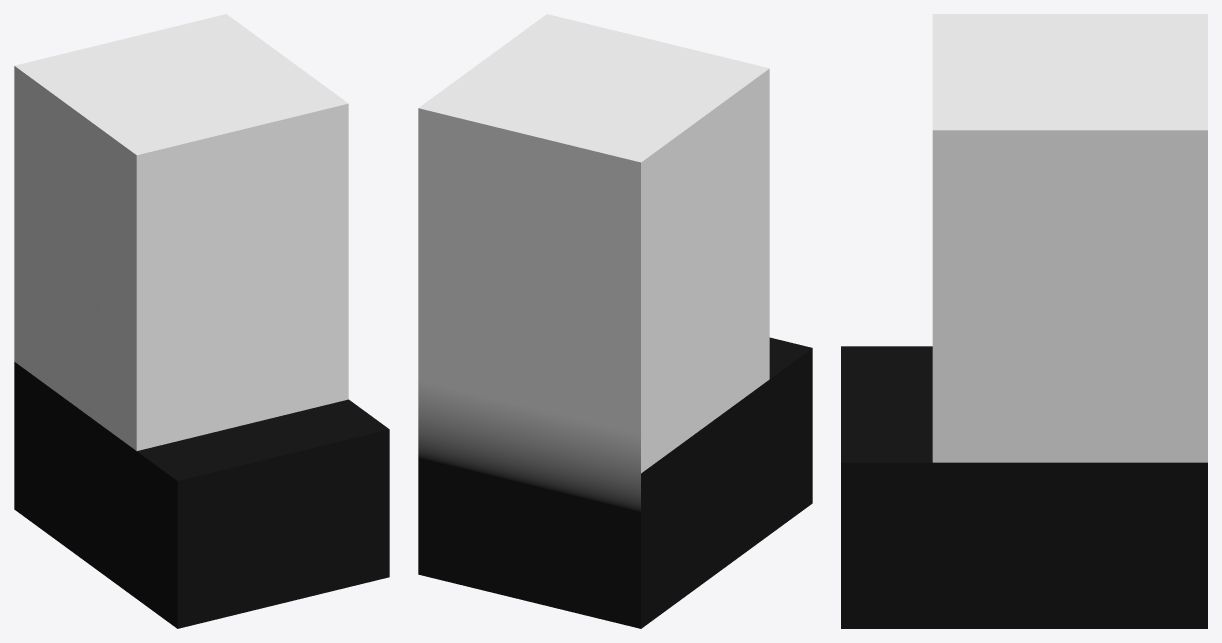
Rendered from base_legL.fbx.
3 renders of one model, left to right at view 1: azimuth 30°, elevation 25°; view 2: azimuth 150°, elevation 25°; view 3: azimuth 270°, elevation 25°, orthographic. The views are drawn at different scales.
Visible parts, largest first — view 1: base_legL; view 2: base_legL; view 3: base_legL.
Boxes of the visible parts, left/top/right/bottom form: base_legL: left=14, top=14, right=389, bottom=628; base_legL: left=418, top=14, right=812, bottom=628; base_legL: left=841, top=14, right=1207, bottom=628.
Size of the model in its own units: 3 by 6 by 4.
1 material, 1 textured.
